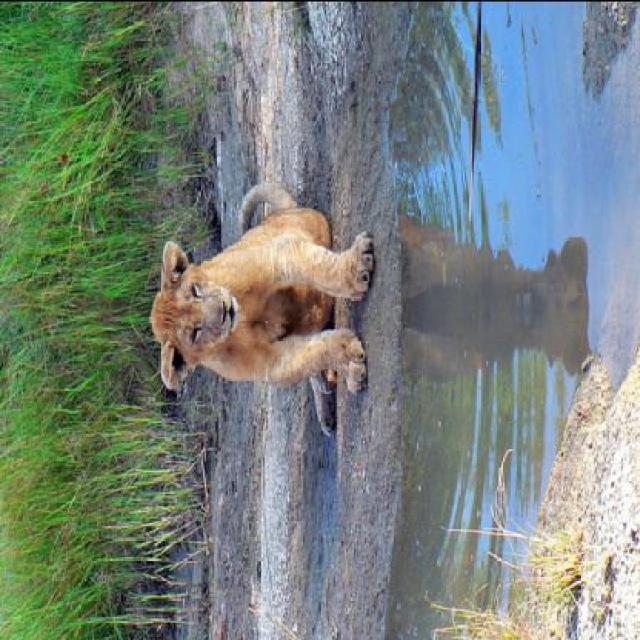Lion: (123, 169, 400, 469)
